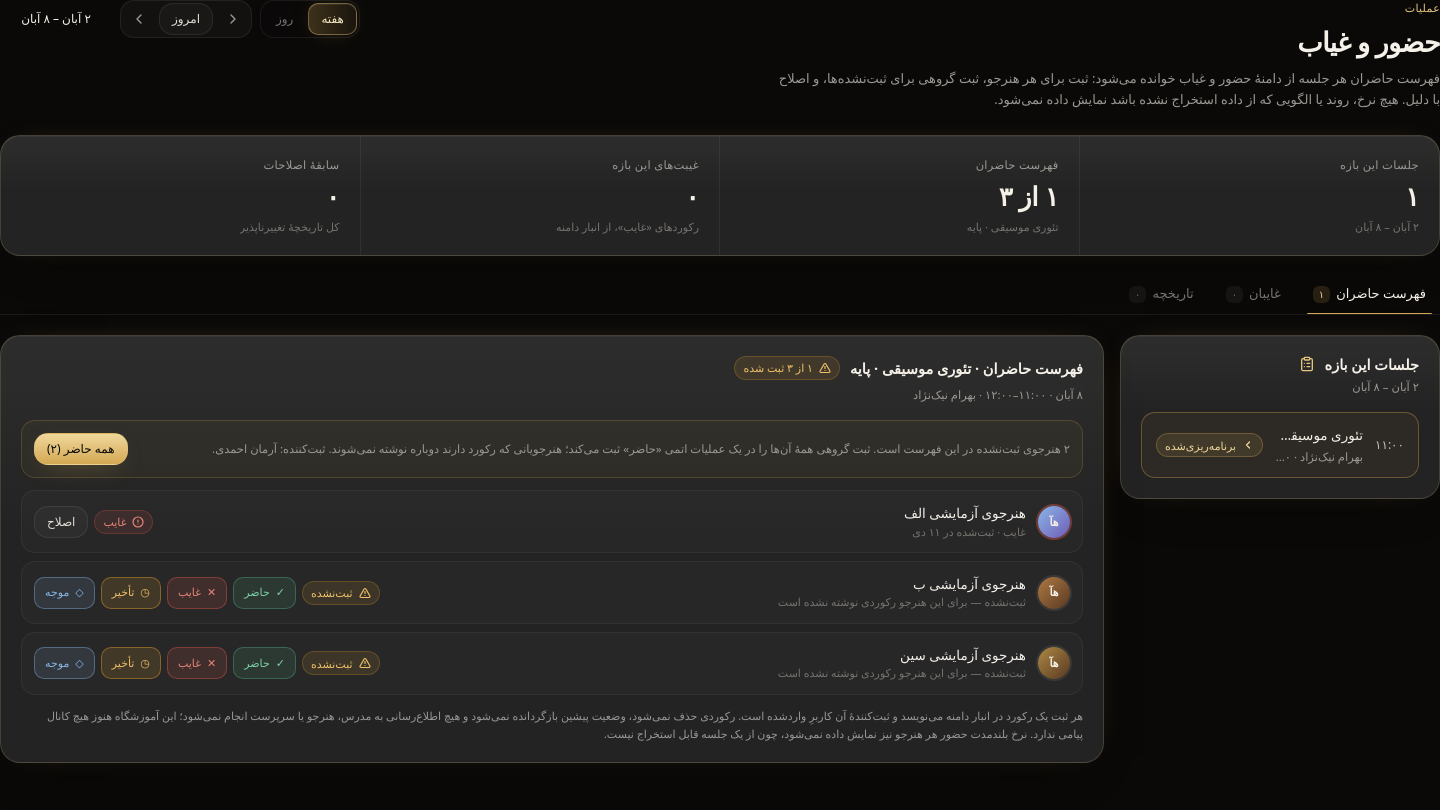
Test: correcting through the real repository › shows the repository's REASON_REQUIRED on the reason field
Step 1. Click the button "اصلاح" → click(61, 522), box [34,506,88,538]
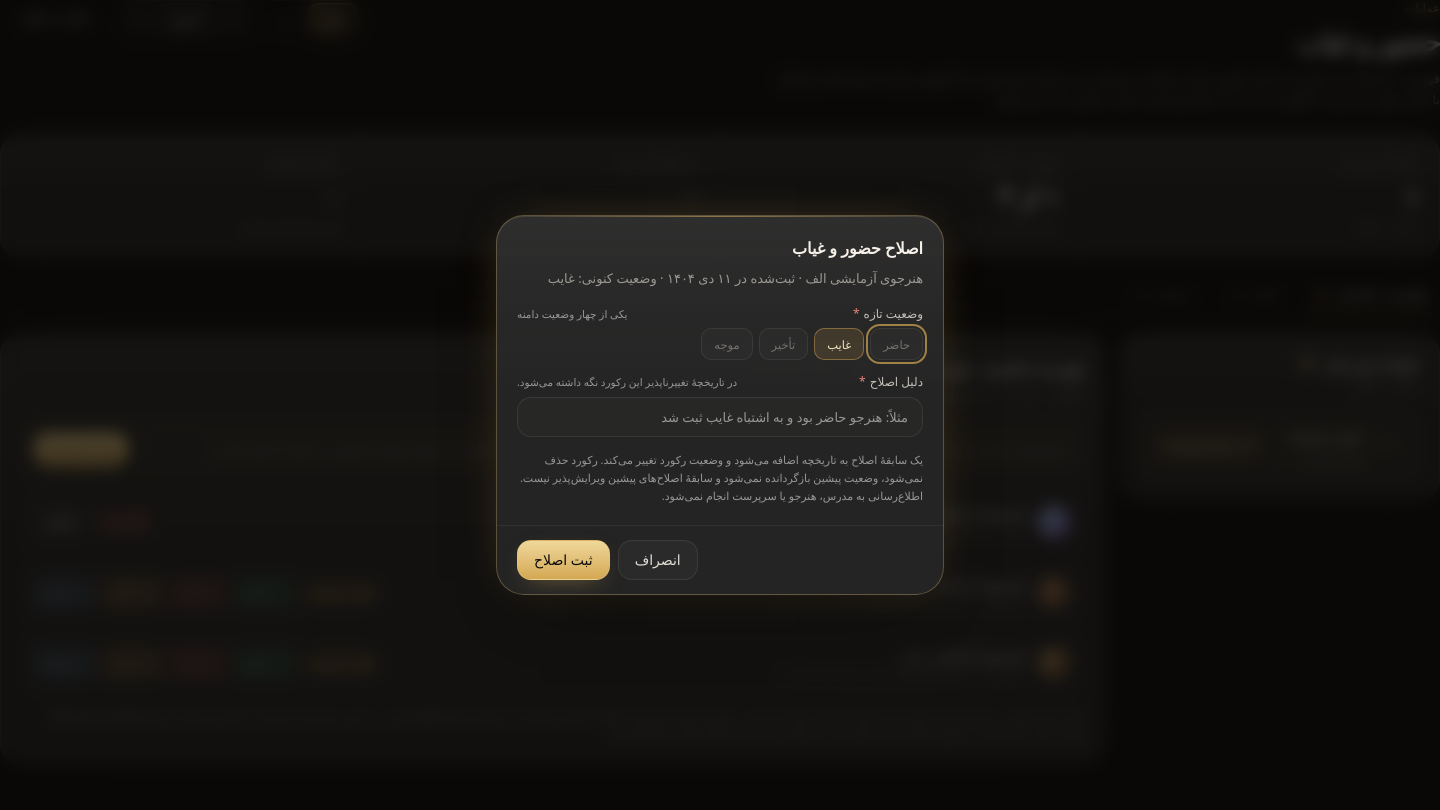
Step 2. Type "اشتباه ثبت شد" into the field labelled "دلیل اصلاح" → (720, 417), box [517,397,923,437]
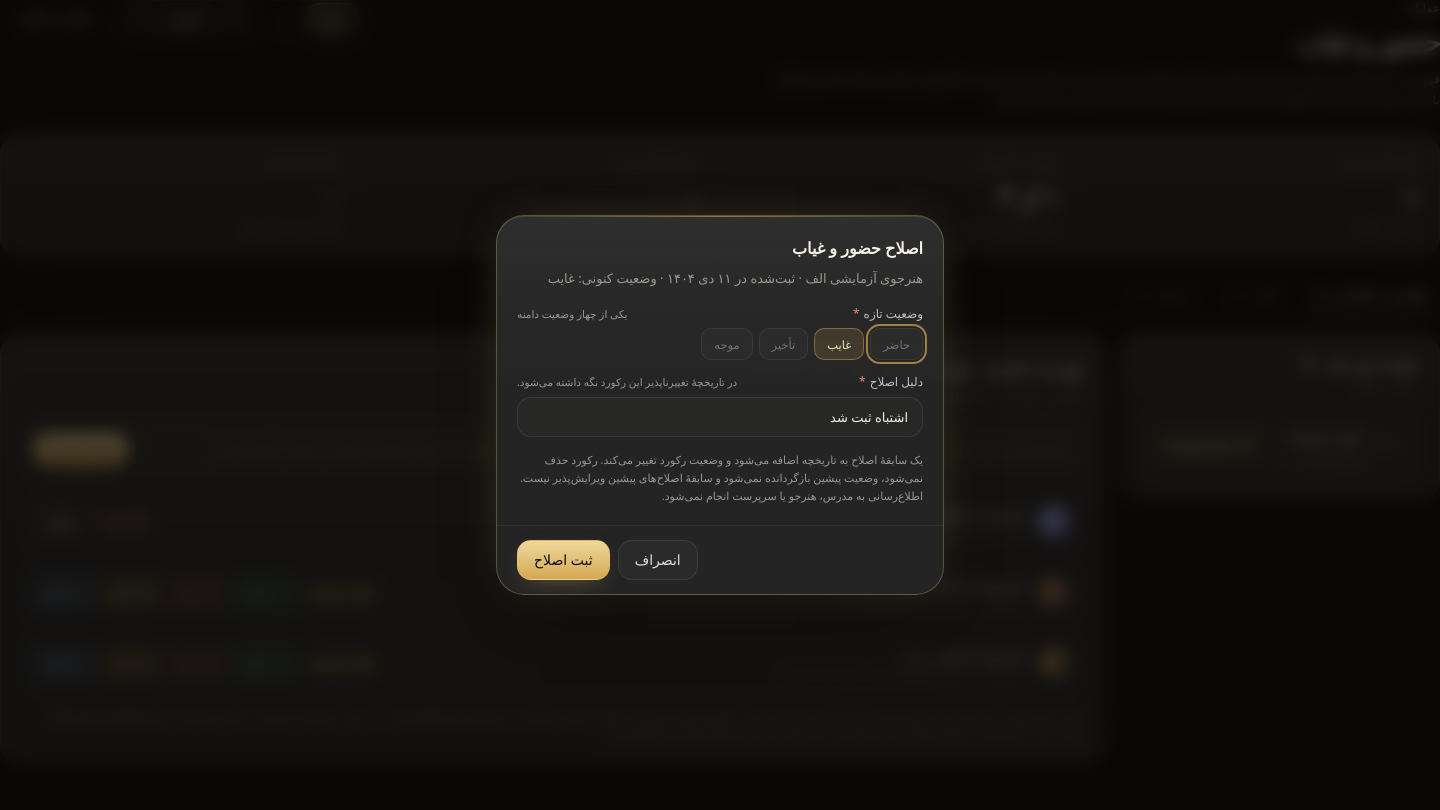
Step 3. Click the button "ثبت اصلاح" → click(563, 560), box [517,540,610,580]
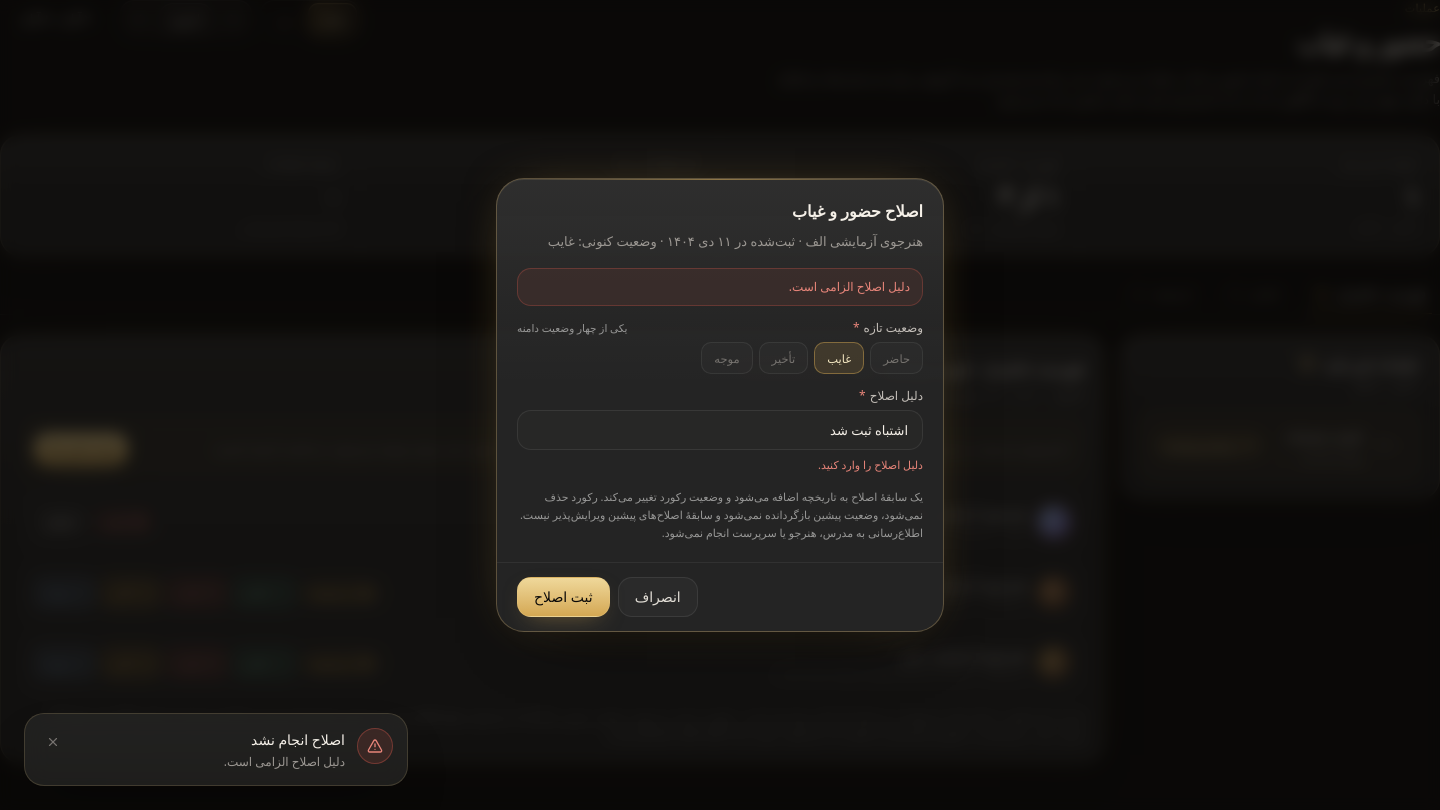
Check: the dialog "اصلاح حضور و غیاب" is shown
Check: the text "دلیل اصلاح را وارد کنید." is shown, box [818,457,923,472]
